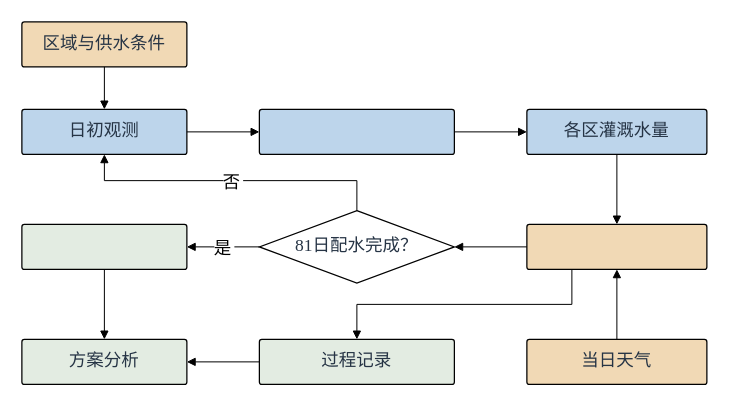
Image size: 729x406. Some labels were removed from this diagram. The centre of each missing label's shape, as x and y in pixels:
"固定参数策略决策" belongs at (x=356, y=131).
"田间水分计算" belongs at (x=616, y=246).
"配水结束时评价" belongs at (x=104, y=246).
